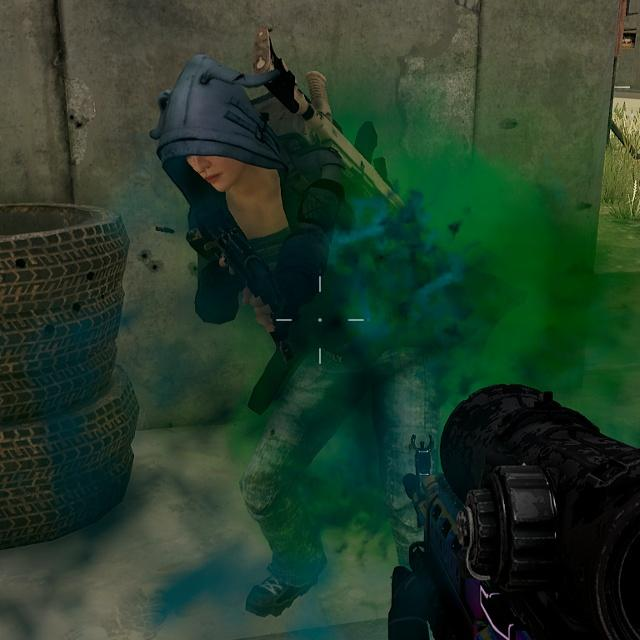head: (157, 60, 290, 217)
people: (143, 41, 482, 612)
